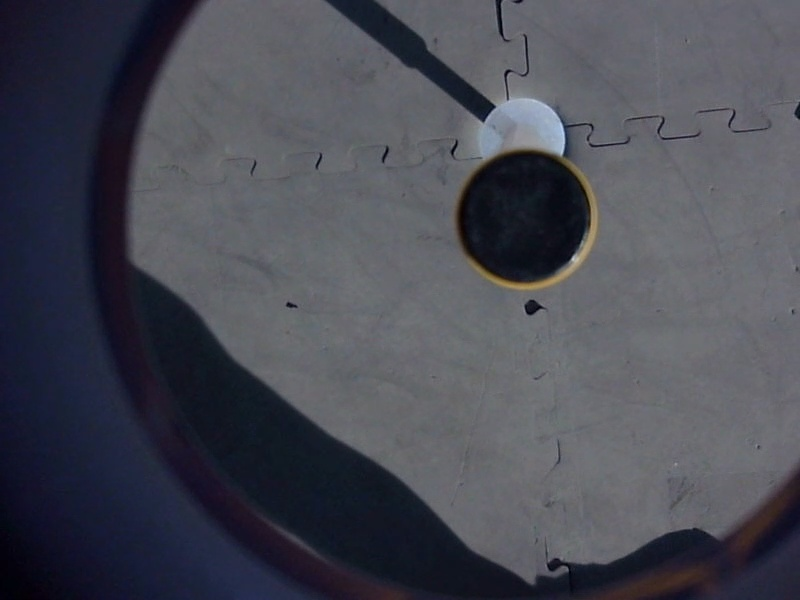tip: (448, 144, 604, 295)
